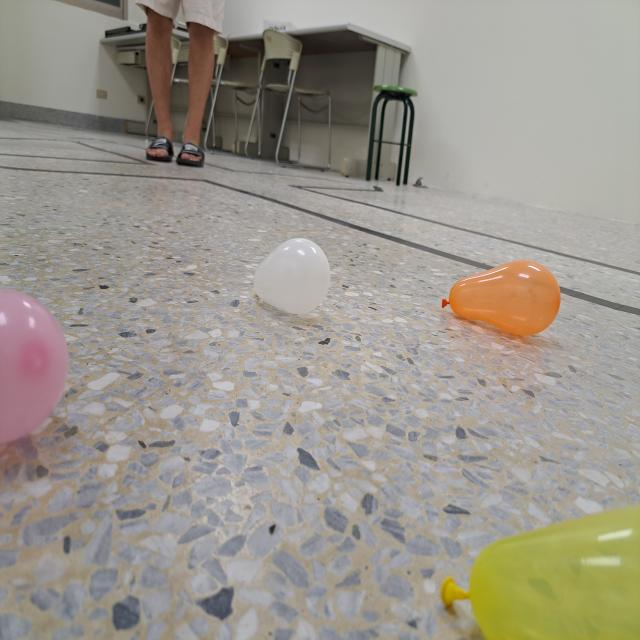other: (437, 506, 640, 640), (0, 286, 68, 446), (440, 260, 562, 336), (254, 238, 331, 315)
